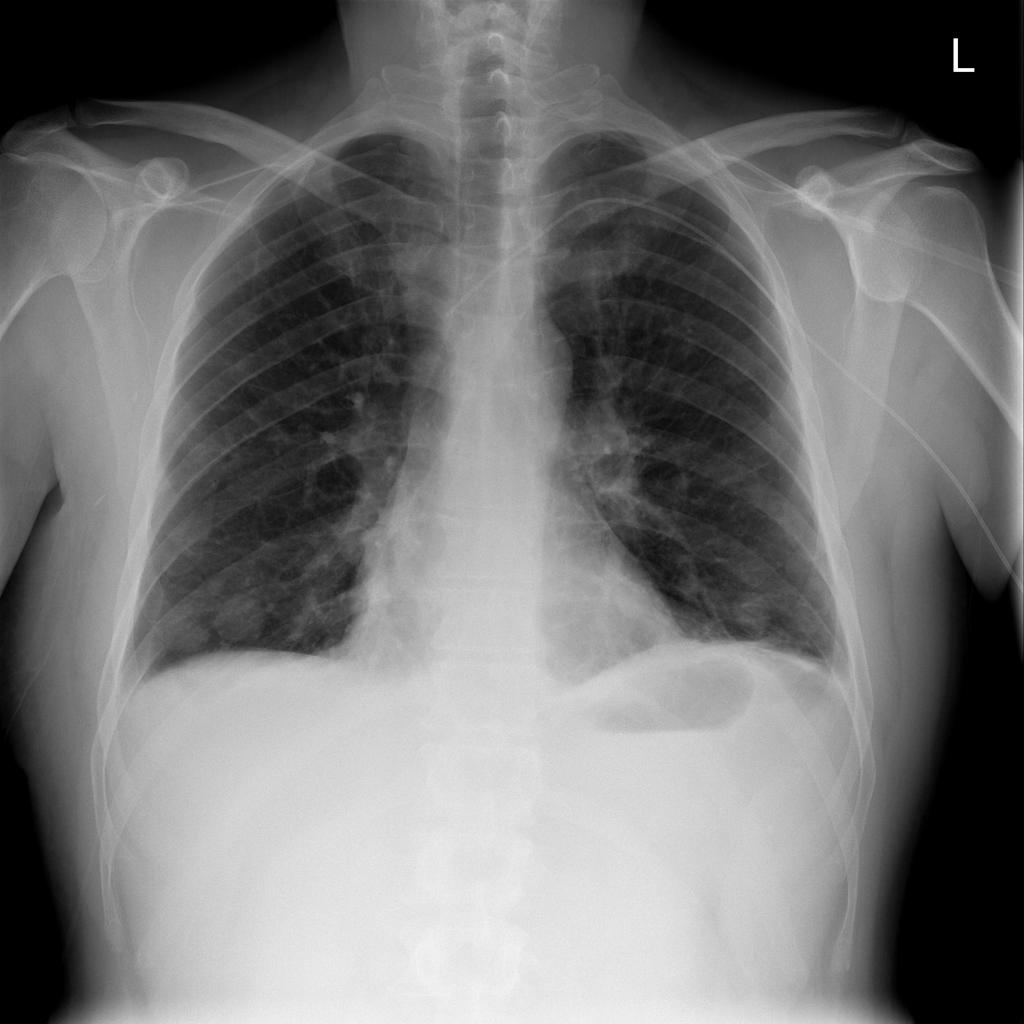nodule: (193, 583, 278, 655), (145, 604, 225, 667), (717, 574, 789, 643)
